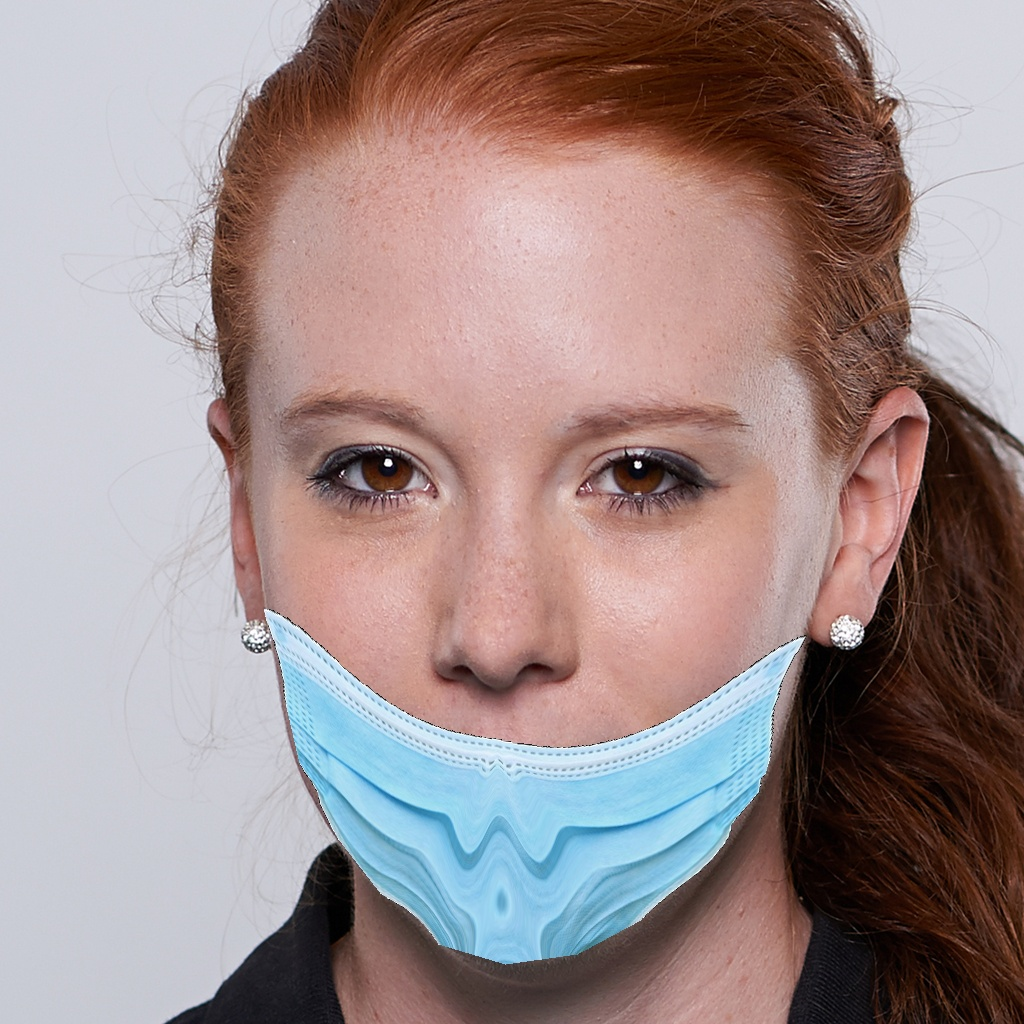mascarilla_mal_puesta: (204, 315, 869, 965)
